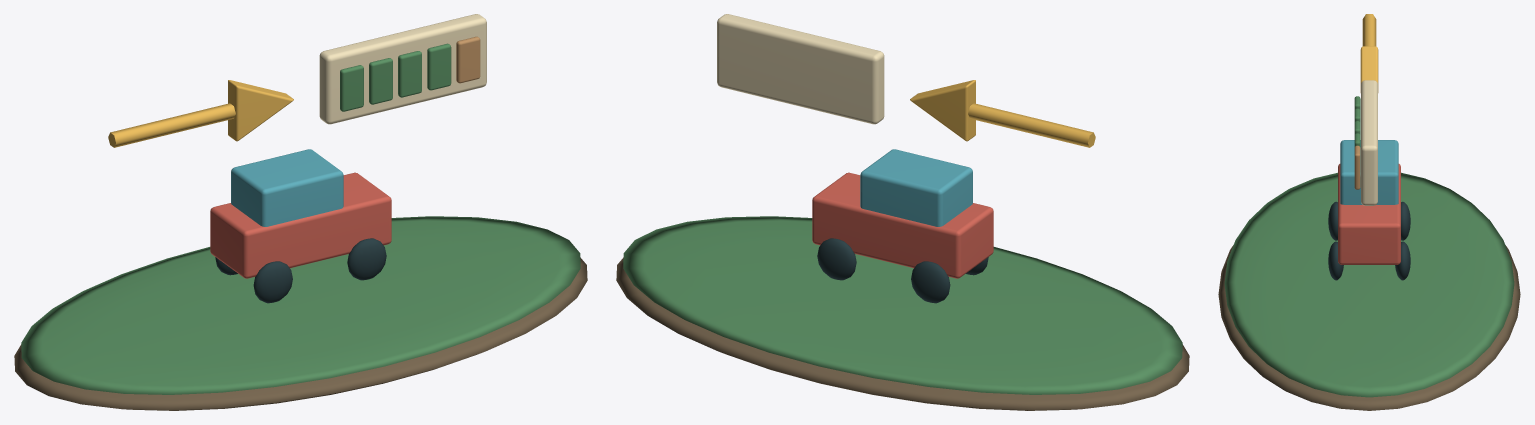
The model's file is complete-second-speed-degree.glb.
The picture shows the model from 3 angles, left to right: view 1: azimuth 30°, elevation 25°; view 2: azimuth 150°, elevation 25°; view 3: azimuth 270°, elevation 25°; orthographic projection. The views are drawn at different scales.
Visible parts, largest first — view 1: complete-second-speed-degree_surface_01, complete-second-speed-degree_surface_00, complete-second-speed-degree_surface_05, complete-second-speed-degree_surface_03, complete-second-speed-degree_surface_06, complete-second-speed-degree_surface_02, complete-second-speed-degree_surface_07, complete-second-speed-degree_surface_04; view 2: complete-second-speed-degree_surface_01, complete-second-speed-degree_surface_03, complete-second-speed-degree_surface_00, complete-second-speed-degree_surface_05, complete-second-speed-degree_surface_06, complete-second-speed-degree_surface_02, complete-second-speed-degree_surface_07; view 3: complete-second-speed-degree_surface_01, complete-second-speed-degree_surface_00, complete-second-speed-degree_surface_05, complete-second-speed-degree_surface_06, complete-second-speed-degree_surface_03, complete-second-speed-degree_surface_07, complete-second-speed-degree_surface_02, complete-second-speed-degree_surface_04.
Boxes of the visible parts, x1,y1,x2,y2 form: complete-second-speed-degree_surface_01: [21, 43, 580, 394]; complete-second-speed-degree_surface_00: [14, 257, 587, 410]; complete-second-speed-degree_surface_05: [210, 172, 391, 278]; complete-second-speed-degree_surface_03: [319, 14, 486, 124]; complete-second-speed-degree_surface_06: [231, 149, 343, 226]; complete-second-speed-degree_surface_02: [108, 80, 293, 147]; complete-second-speed-degree_surface_07: [215, 238, 386, 303]; complete-second-speed-degree_surface_04: [456, 36, 480, 83]; complete-second-speed-degree_surface_01: [623, 216, 1182, 394]; complete-second-speed-degree_surface_03: [717, 14, 884, 124]; complete-second-speed-degree_surface_00: [616, 257, 1189, 410]; complete-second-speed-degree_surface_05: [812, 172, 993, 278]; complete-second-speed-degree_surface_06: [860, 149, 972, 226]; complete-second-speed-degree_surface_02: [910, 80, 1095, 147]; complete-second-speed-degree_surface_07: [817, 238, 988, 303]; complete-second-speed-degree_surface_01: [1224, 96, 1514, 397]; complete-second-speed-degree_surface_00: [1218, 245, 1520, 410]; complete-second-speed-degree_surface_05: [1338, 164, 1400, 264]; complete-second-speed-degree_surface_06: [1340, 140, 1398, 204]; complete-second-speed-degree_surface_03: [1361, 80, 1377, 205]; complete-second-speed-degree_surface_07: [1328, 201, 1410, 280]; complete-second-speed-degree_surface_02: [1360, 14, 1378, 92]; complete-second-speed-degree_surface_04: [1354, 145, 1360, 189].
Size of the model in its own units: 4.56 by 2.19 by 2.5.
